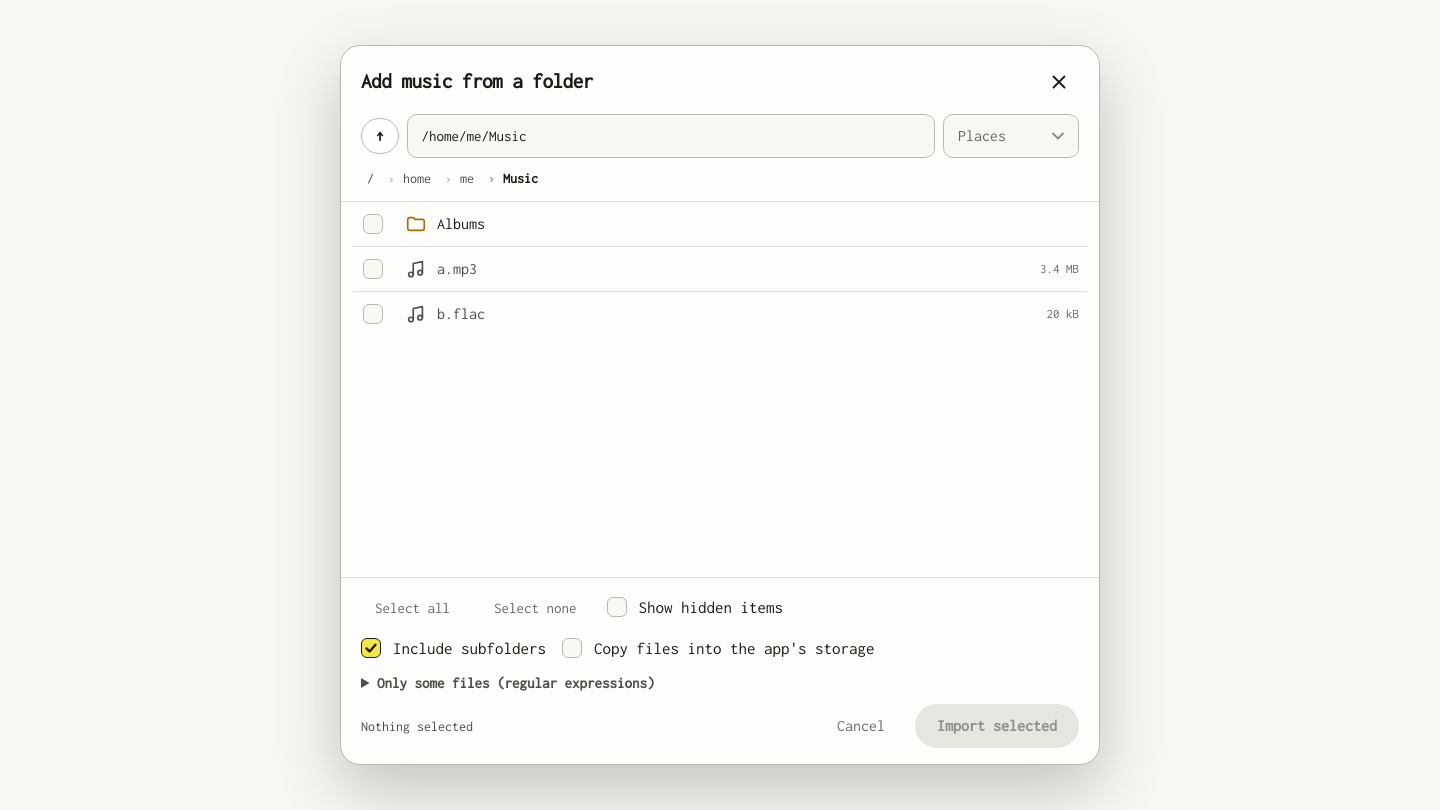
Test: FolderBrowser › select all / none work on what is listed
The image size is (1440, 810).
Check: the text "a.mp3" is shown, box top-left (437, 260), bottom-right (477, 277)
Click the button "Select all": (412, 608) top-left (361, 590), bottom-right (464, 626)
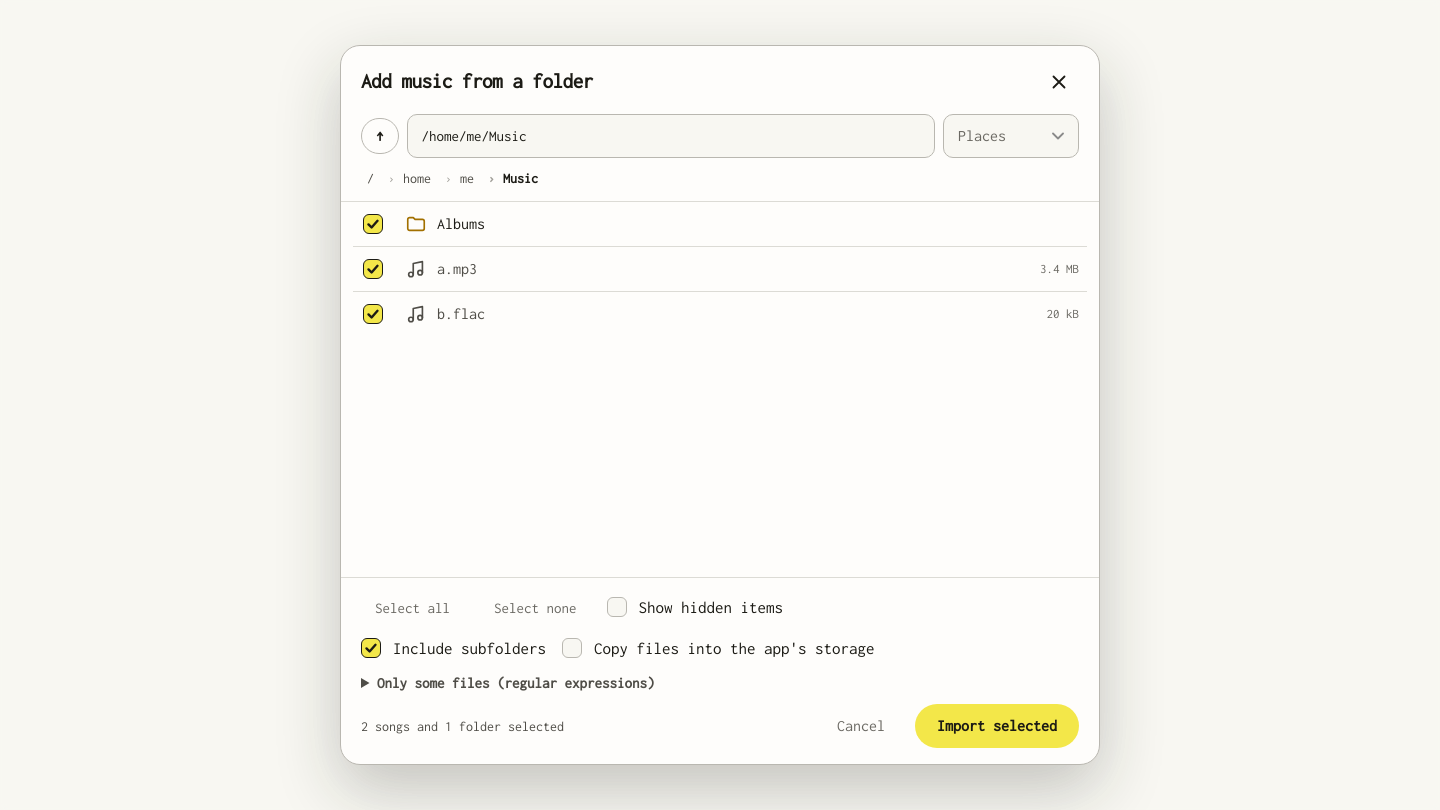
Check: the text "2 songs and 1 folder selected" is shown, box top-left (361, 718), bottom-right (564, 734)
Click the button "Select none": (535, 608) top-left (480, 590), bottom-right (590, 626)
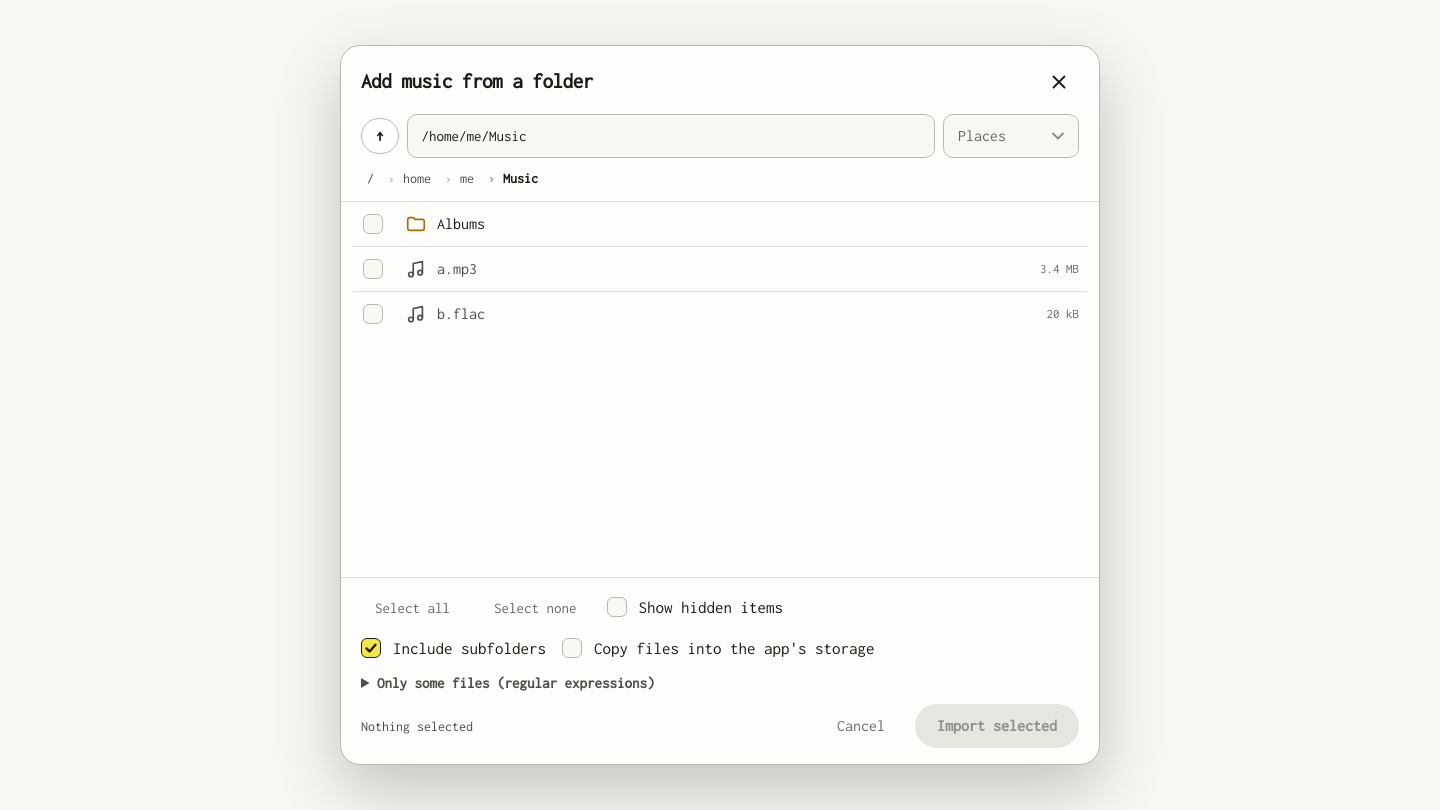
Check: the text "Nothing selected" is shown, box top-left (361, 718), bottom-right (473, 734)
